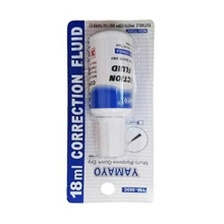book: (66, 19, 156, 204)
correction_fluid: (84, 27, 137, 160)
